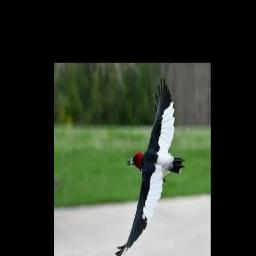Woodpecker: (115, 78, 185, 256)
